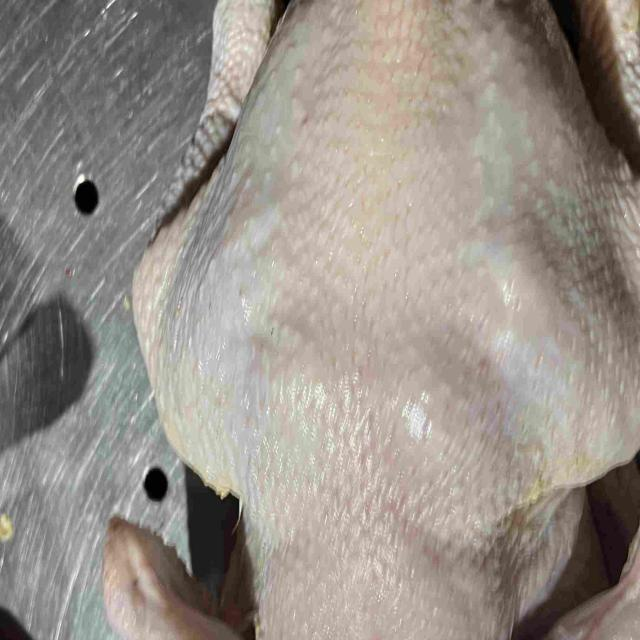back: (227, 0, 568, 640)
leg: (132, 0, 279, 493), (509, 0, 640, 496)
wing: (103, 524, 260, 640)
